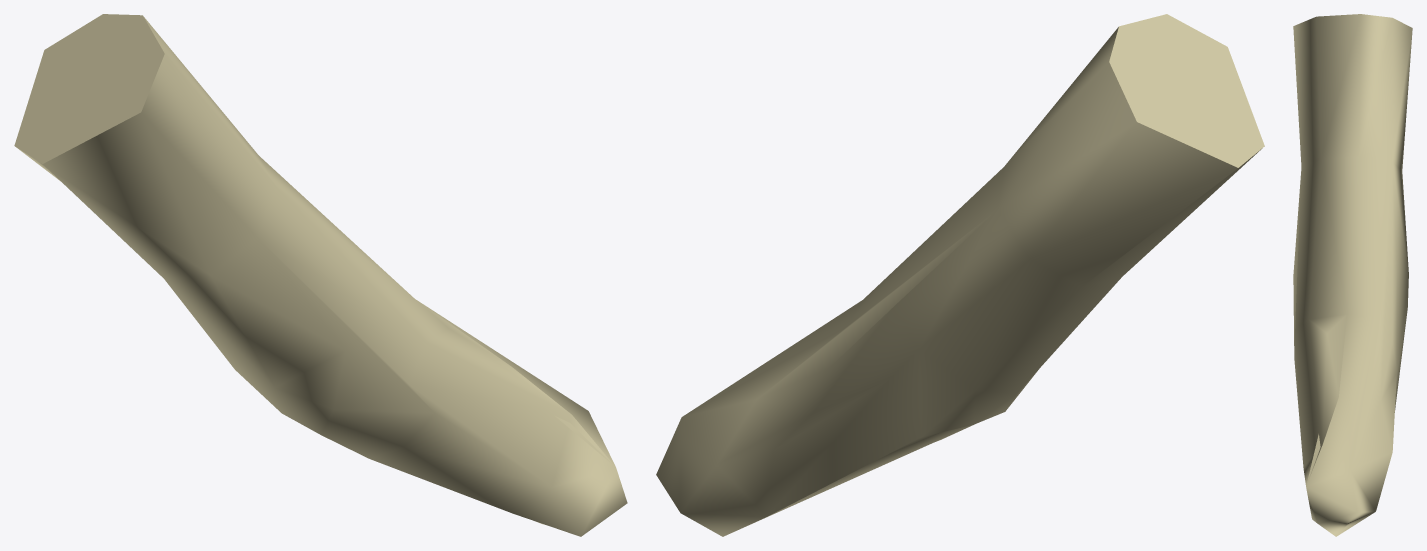
Rendered from Nao6_Right_Hand_Left_Finger.obj.
3 views of the same model, side by side, from view 1: azimuth 30°, elevation 25°; view 2: azimuth 150°, elevation 25°; view 3: azimuth 270°, elevation 25° (orthographic). The views are drawn at different scales.
Parts seen in each view (by area): view 1: Nao6_Right_Hand_Left_Finger; view 2: Nao6_Right_Hand_Left_Finger; view 3: Nao6_Right_Hand_Left_Finger.
Part boxes in pixels (x1,y1,x2,y2): Nao6_Right_Hand_Left_Finger: (14, 14, 627, 536); Nao6_Right_Hand_Left_Finger: (656, 14, 1264, 536); Nao6_Right_Hand_Left_Finger: (1293, 14, 1412, 536).
Size of the model in its own units: 0.2294 by 0.2298 by 0.0637.
